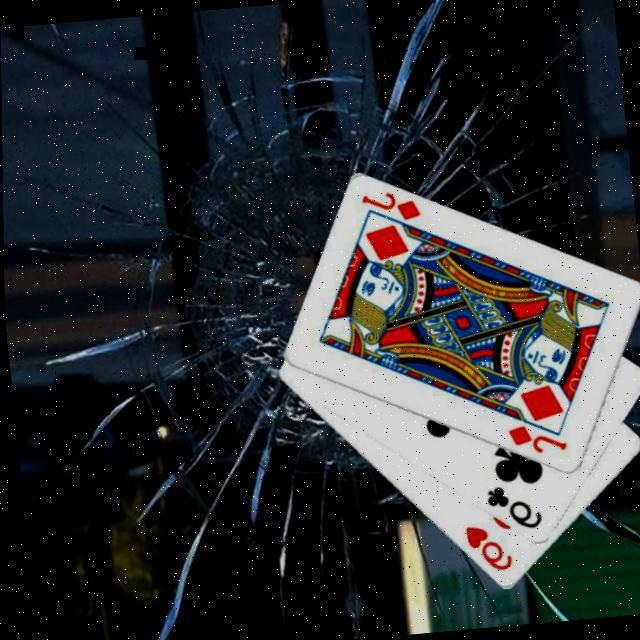6C: (478, 480, 542, 536)
6H: (457, 521, 512, 577)
JD: (500, 420, 567, 460), (355, 188, 422, 228)
